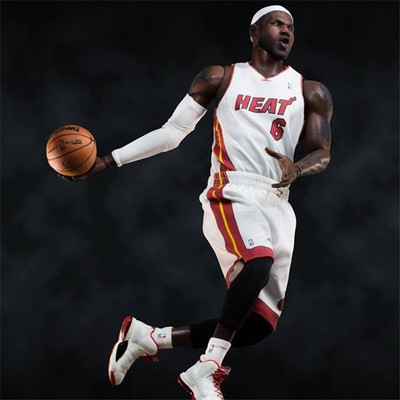ball: (46, 125, 97, 176)
